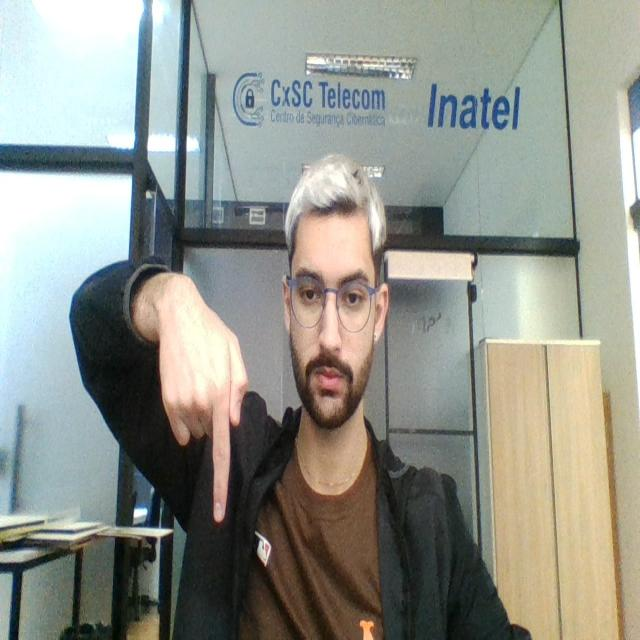Q: (151, 263, 250, 526)
